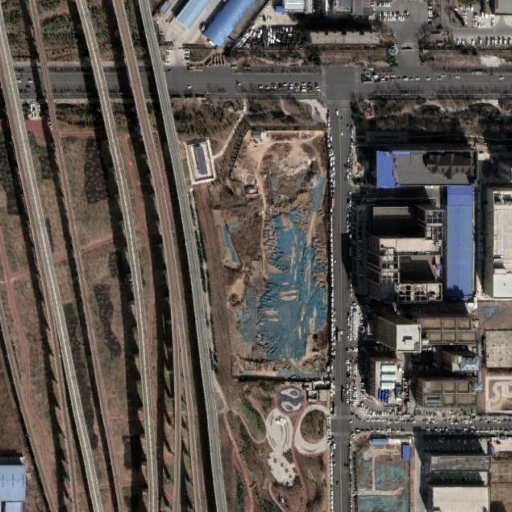cw: (204, 177, 332, 377), (356, 455, 410, 512)
